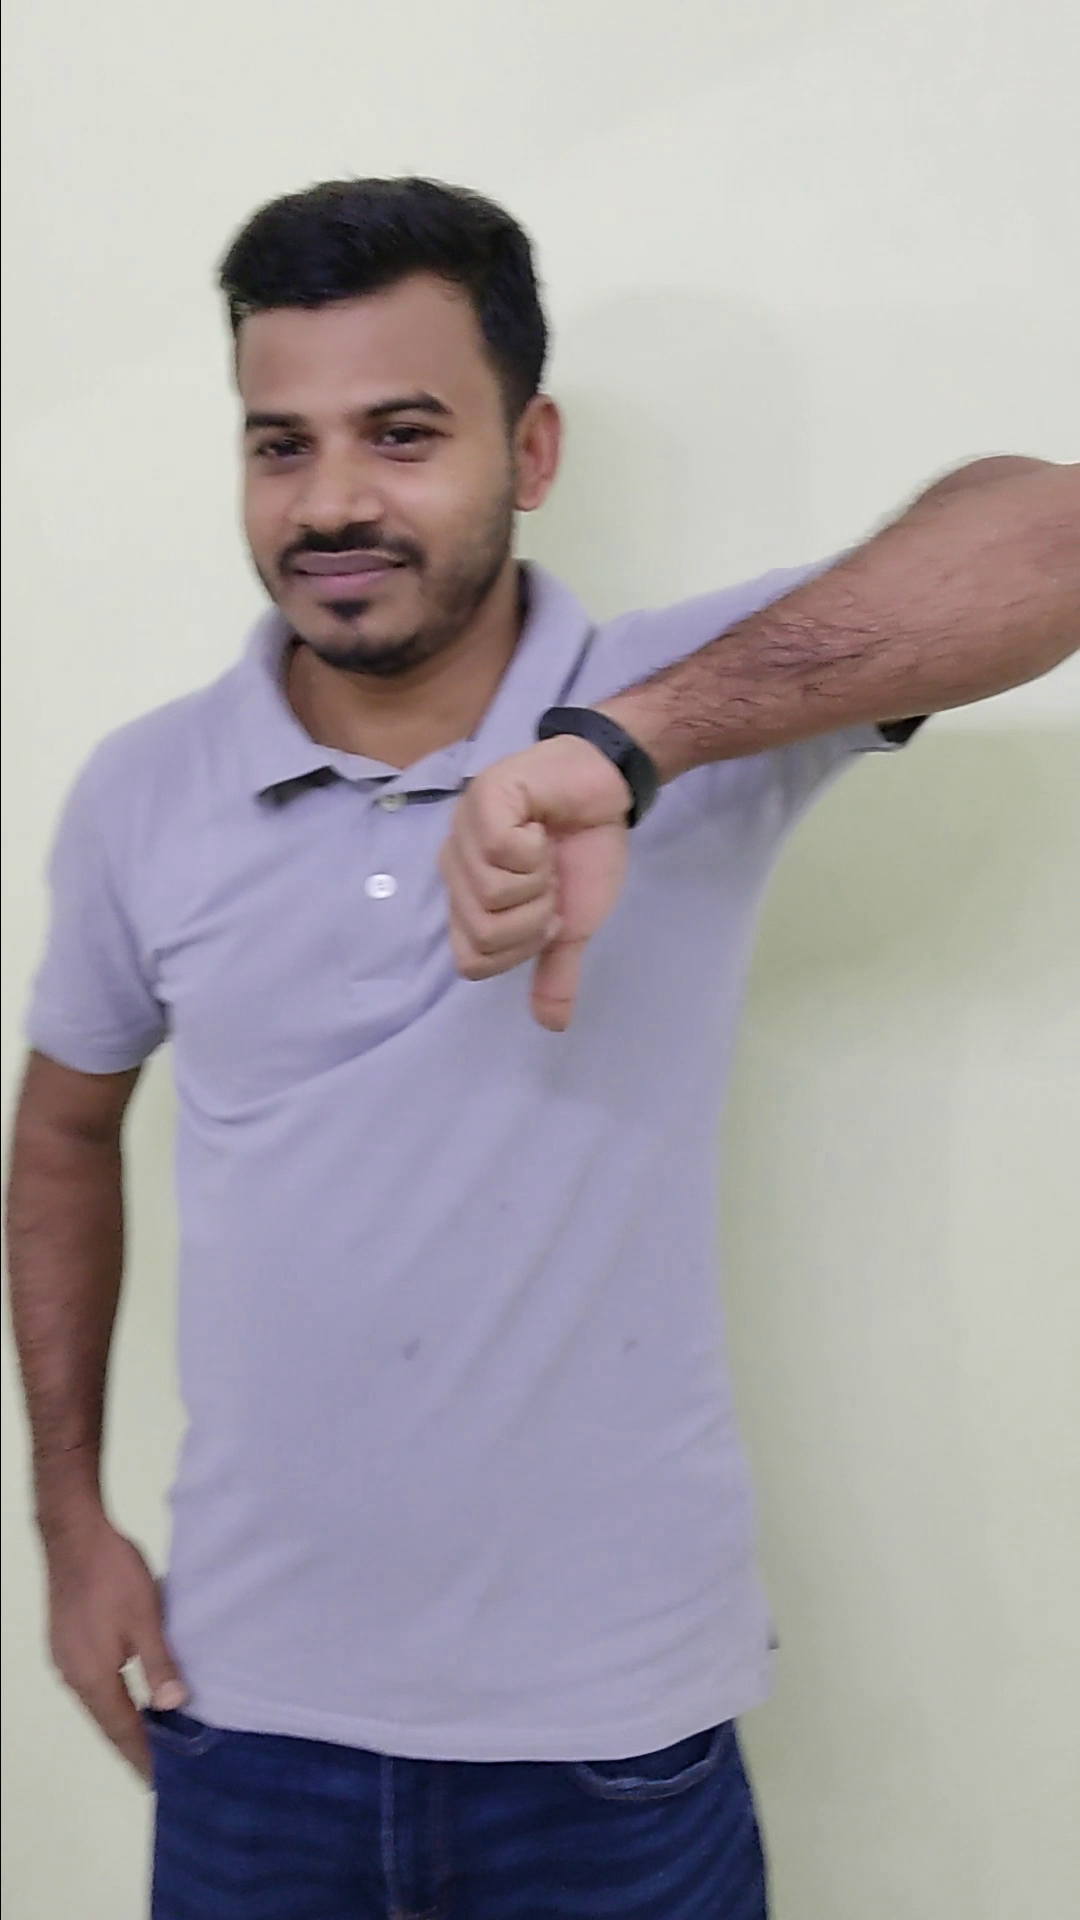Dislike: (423, 709, 646, 1046)
None: (36, 1498, 198, 1795)
